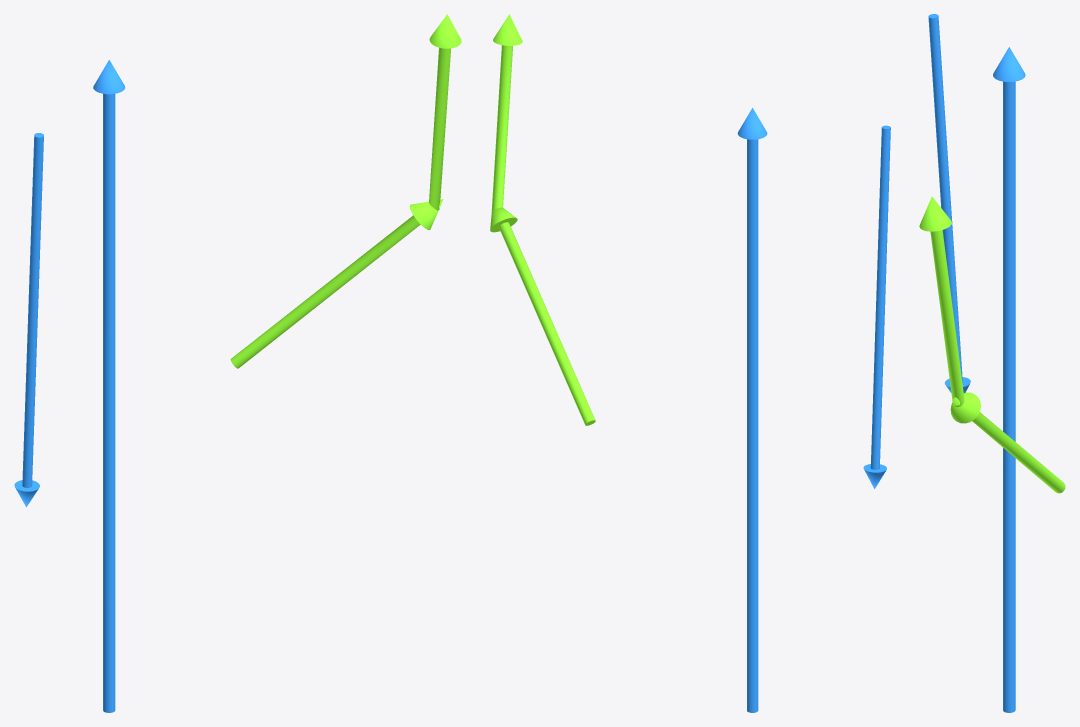
The model's file is cryogenic_storage_tank_flow.glb.
The picture shows the model from 3 angles, left to right: view 1: azimuth 30°, elevation 25°; view 2: azimuth 150°, elevation 25°; view 3: azimuth 270°, elevation 25°; orthographic projection. The views are drawn at different scales.
Parts seen in each view (by area): view 1: send_out, boil_off_gas, fill; view 2: send_out, boil_off_gas, fill; view 3: send_out, boil_off_gas, fill.
Part boxes in pixels (left/top/right/bottom): send_out: left=93, top=60, right=125, bottom=712; boil_off_gas: left=230, top=14, right=461, bottom=368; fill: left=14, top=133, right=43, bottom=507; send_out: left=737, top=108, right=767, bottom=712; boil_off_gas: left=490, top=14, right=595, bottom=425; fill: left=863, top=125, right=890, bottom=488; send_out: left=993, top=47, right=1025, bottom=712; boil_off_gas: left=919, top=196, right=1065, bottom=493; fill: left=928, top=14, right=970, bottom=392.
Size of the model in its own units: 2.02 by 2.9 by 0.579.
